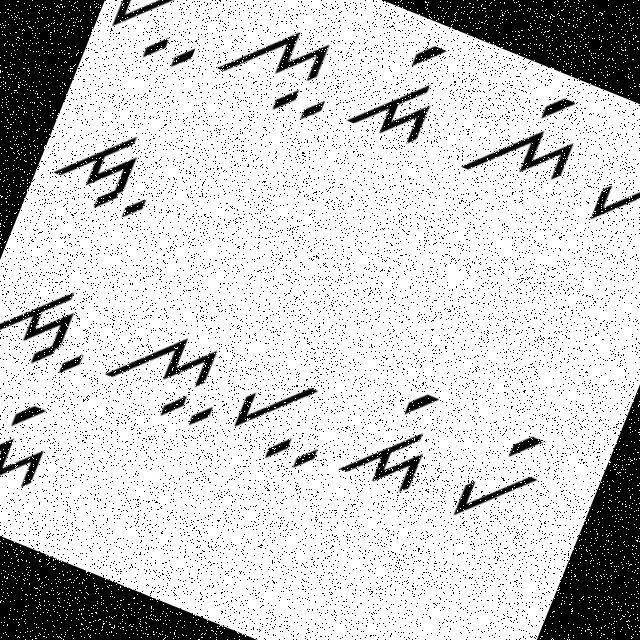dah: (42, 104, 178, 228), (0, 255, 111, 384)
dang: (332, 364, 452, 516), (333, 21, 463, 158)
nah: (202, 0, 356, 146), (96, 296, 244, 438)
nang: (458, 60, 599, 206), (0, 367, 76, 522)
pah: (218, 354, 346, 479), (89, 0, 220, 86)
pang: (433, 398, 568, 547), (578, 111, 639, 246)
